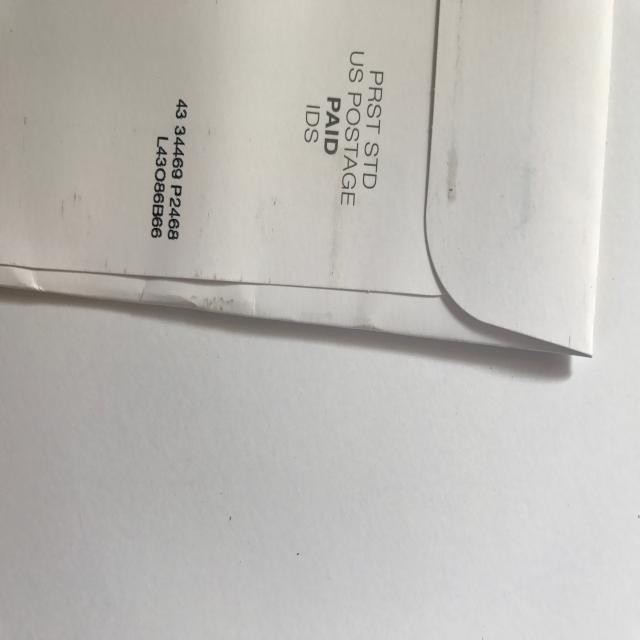Paper: (0, 0, 618, 360)
